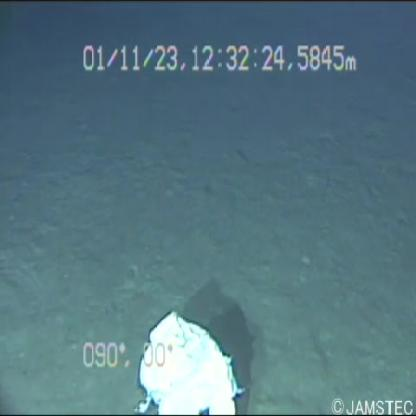Rác: (118, 307, 254, 416)
